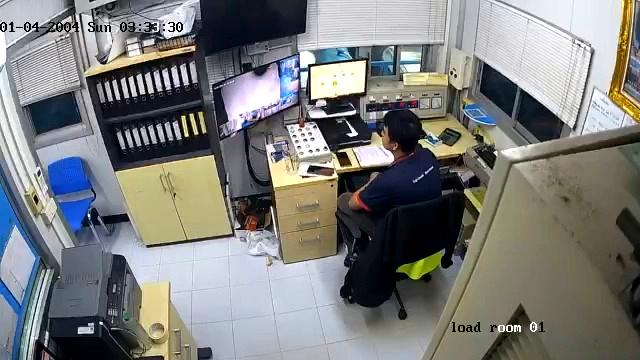Head: (380, 110, 425, 154)
People: (338, 110, 441, 240)
Phone: (306, 165, 335, 175), (334, 152, 352, 167)
